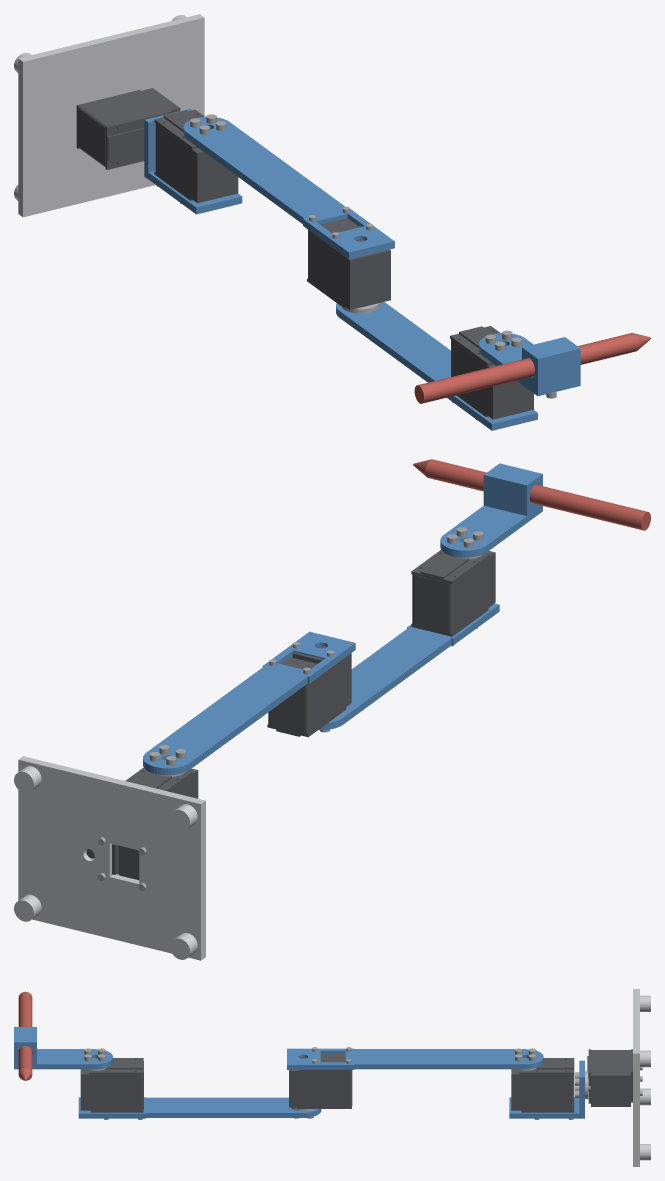
3 renders of one model, top to bottom at view 1: azimuth 30°, elevation 25°; view 2: azimuth 150°, elevation 25°; view 3: azimuth 270°, elevation 25°, orthographic. The views are drawn at different scales.
Visible parts, largest first — view 1: geometry_5, geometry_27, geometry_0, geometry_38, geometry_26, geometry_15, geometry_45, geometry_46, geometry_37, geometry_16; view 2: geometry_5, geometry_27, geometry_37, geometry_38, geometry_46, geometry_26, geometry_45, geometry_15, geometry_0; view 3: geometry_27, geometry_38, geometry_15, geometry_37, geometry_26, geometry_0, geometry_46, geometry_5, geometry_45, geometry_16.
Boxes of the visible parts, x1,y1,x2,y2 form: geometry_5: (14, 14, 204, 217); geometry_27: (183, 116, 394, 259); geometry_0: (76, 88, 180, 169); geometry_38: (336, 302, 537, 430); geometry_26: (307, 218, 390, 309); geometry_15: (154, 109, 238, 203); geometry_45: (414, 333, 650, 403); geometry_46: (479, 333, 580, 396); geometry_37: (450, 326, 533, 419); geometry_16: (144, 108, 242, 214); geometry_5: (14, 756, 205, 960); geometry_27: (143, 631, 355, 775); geometry_37: (411, 550, 495, 636); geometry_38: (319, 603, 499, 729); geometry_46: (440, 463, 542, 557); geometry_26: (267, 646, 351, 737); geometry_45: (413, 459, 650, 530); geometry_15: (125, 767, 198, 798); geometry_0: (86, 844, 139, 880); geometry_27: (287, 1048, 543, 1069); geometry_38: (78, 1097, 321, 1118); geometry_15: (511, 1058, 574, 1112); geometry_37: (80, 1058, 143, 1112); geometry_26: (289, 1052, 352, 1108); geometry_0: (587, 1049, 632, 1106); geometry_46: (14, 1027, 112, 1069); geometry_5: (633, 989, 650, 1166); geometry_45: (18, 991, 32, 1080); geometry_16: (509, 1060, 584, 1118).
Bounding box in the file's own units: 0.14 × 0.09 × 0.4586.
